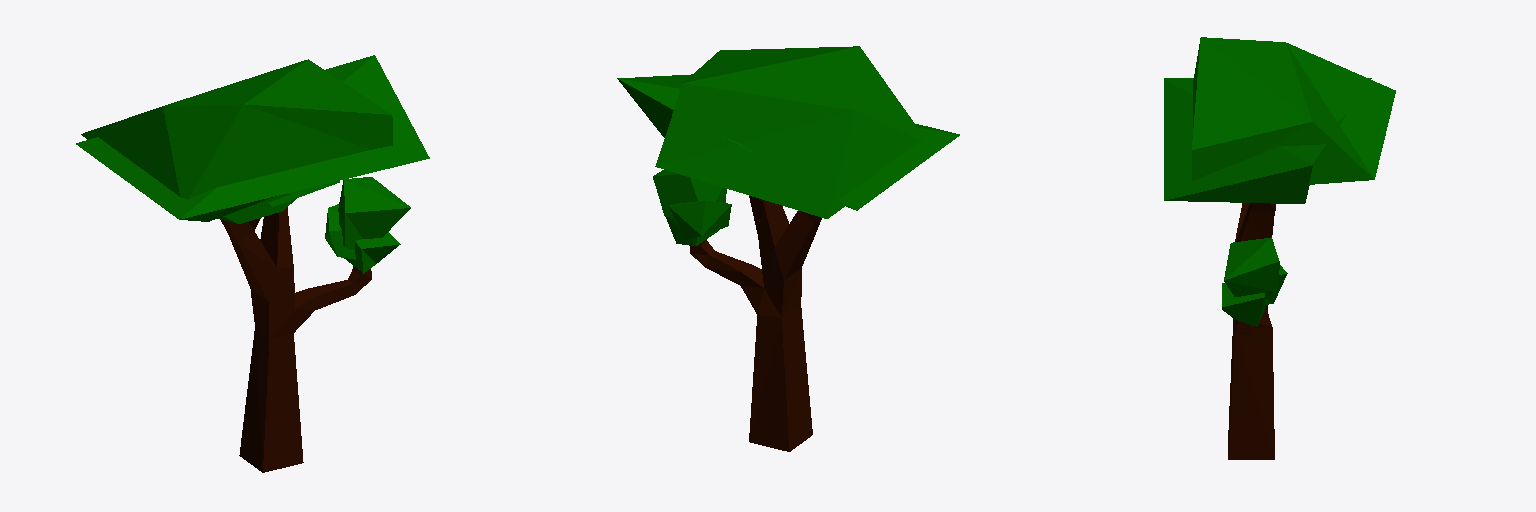
The model's file is tree28.obj.
3 renders of one model, left to right at view 1: azimuth 30°, elevation 25°; view 2: azimuth 150°, elevation 25°; view 3: azimuth 270°, elevation 25°, orthographic.
Visible parts, largest first — view 1: Cube.002_Cube.008; view 2: Cube.002_Cube.008; view 3: Cube.002_Cube.008.
Part boxes in pixels (left/top/right/bottom): Cube.002_Cube.008: left=76, top=55, right=429, bottom=472; Cube.002_Cube.008: left=617, top=46, right=959, bottom=451; Cube.002_Cube.008: left=1164, top=37, right=1395, bottom=459.
Bounding box in the file's own units: 5.42 × 7.42 × 4.05.